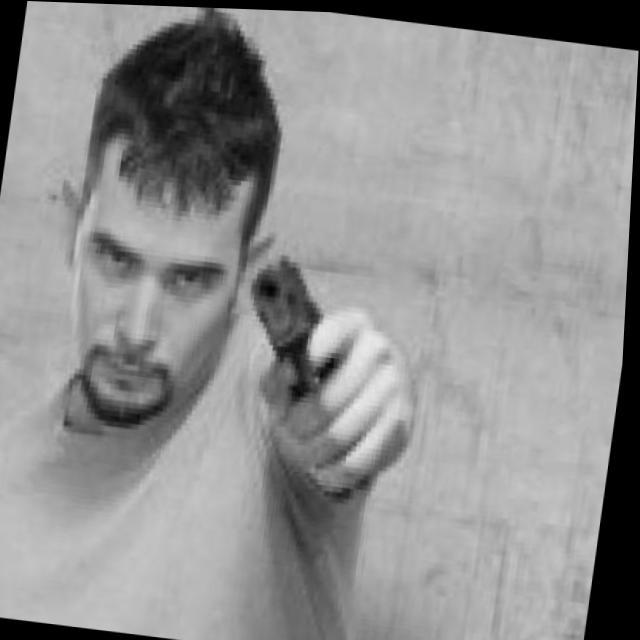weapon: (218, 243, 418, 507)
